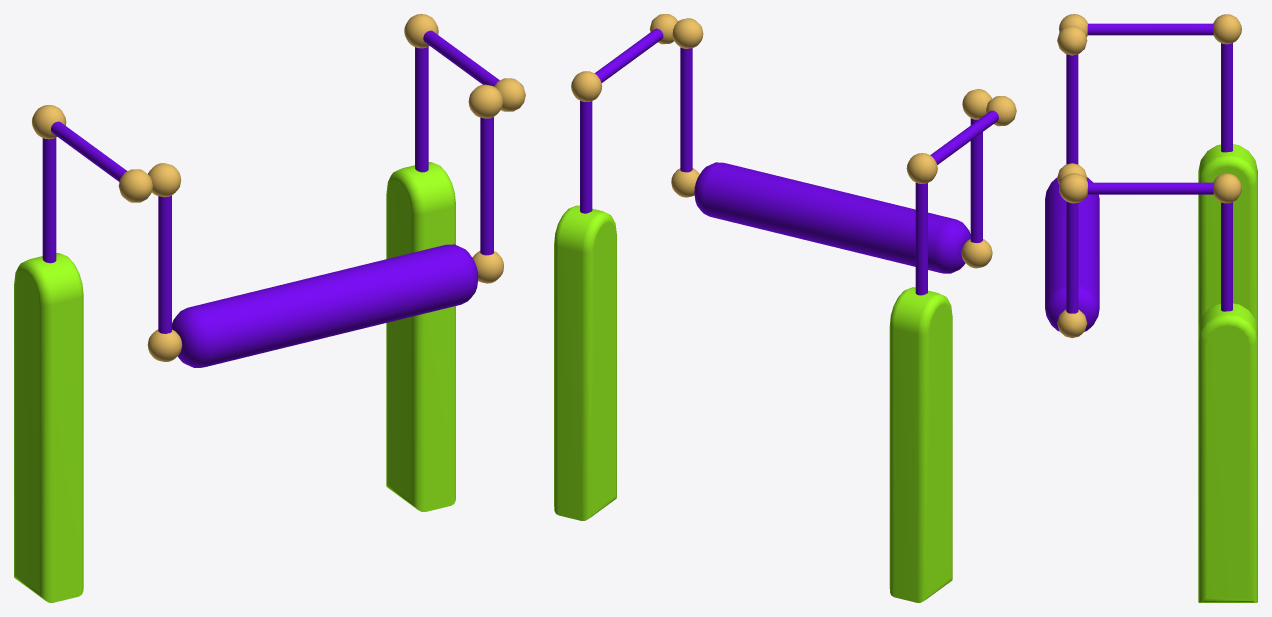
File: Obstacle6.fbx
The picture shows the model from 3 angles, left to right: view 1: azimuth 30°, elevation 25°; view 2: azimuth 150°, elevation 25°; view 3: azimuth 270°, elevation 25°; orthographic projection. The views are drawn at different scales.
Parts seen in each view (by area): view 1: Pillow, Body1, Body2, Arm1, Arm2; view 2: Pillow, Body1, Body2, Arm1, Arm2; view 3: Body2, Pillow, Body1, Arm2, Arm1.
Boxes of the visible parts, x1=… form: Pillow: x1=147, y1=84, x2=503, y2=367; Body1: x1=14, y1=253, x2=83, y2=602; Body2: x1=386, y1=162, x2=455, y2=511; Arm1: x1=32, y1=105, x2=152, y2=263; Arm2: x1=404, y1=14, x2=525, y2=172; Pillow: x1=671, y1=18, x2=992, y2=273; Body1: x1=889, y1=287, x2=952, y2=602; Body2: x1=554, y1=205, x2=616, y2=520; Arm1: x1=906, y1=96, x2=1016, y2=295; Arm2: x1=571, y1=14, x2=677, y2=213; Body2: x1=1198, y1=303, x2=1257, y2=602; Pillow: x1=1045, y1=25, x2=1099, y2=338; Body1: x1=1198, y1=144, x2=1257, y2=329; Arm2: x1=1059, y1=173, x2=1241, y2=311; Arm1: x1=1059, y1=14, x2=1241, y2=152.
Size of the model in its own units: 610 by 676 by 309.
